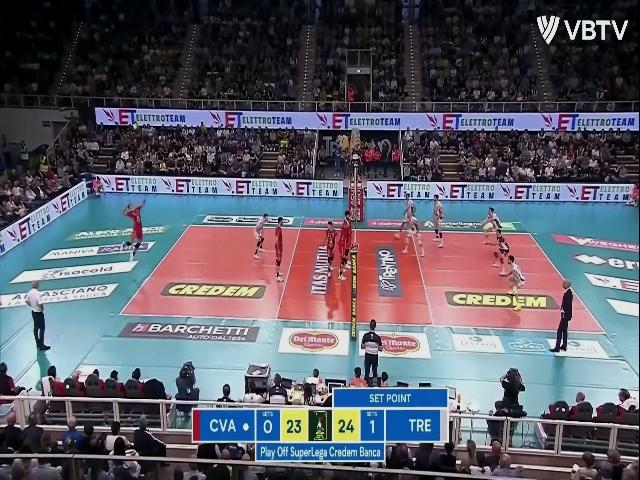volleyball court: (118, 221, 607, 333)
